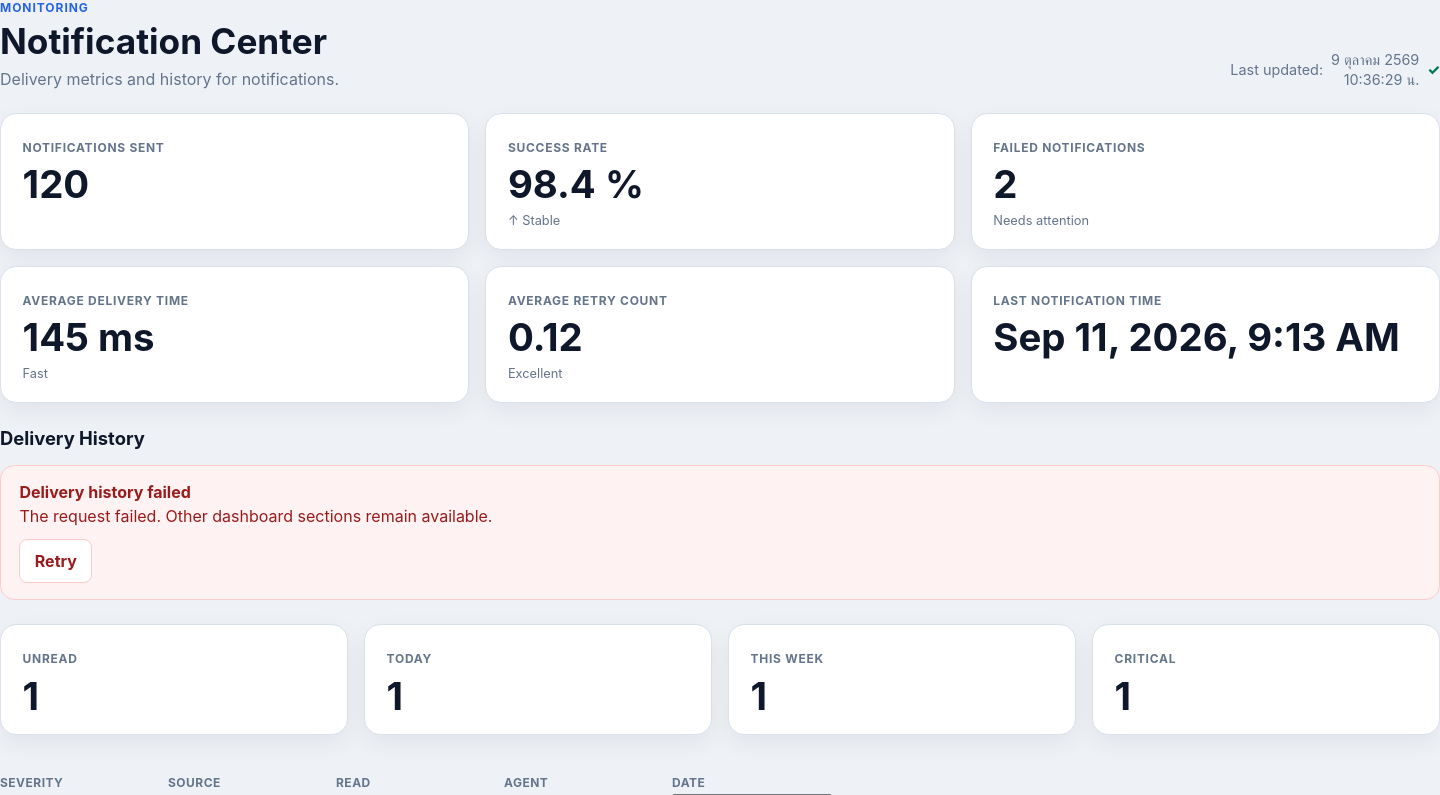
Test: Notification Center page › retries delivery history independently
Expected: the text "Delivery history failed" is shown, x1=19 y1=482 x2=191 y2=502
Expected: the element named "Notification delivery metrics" is shown, x1=0 y1=113 x2=1439 y2=403
Click the button with aria-label "Retry section".
click(56, 561)  # box x1=19 y1=539 x2=92 y2=583
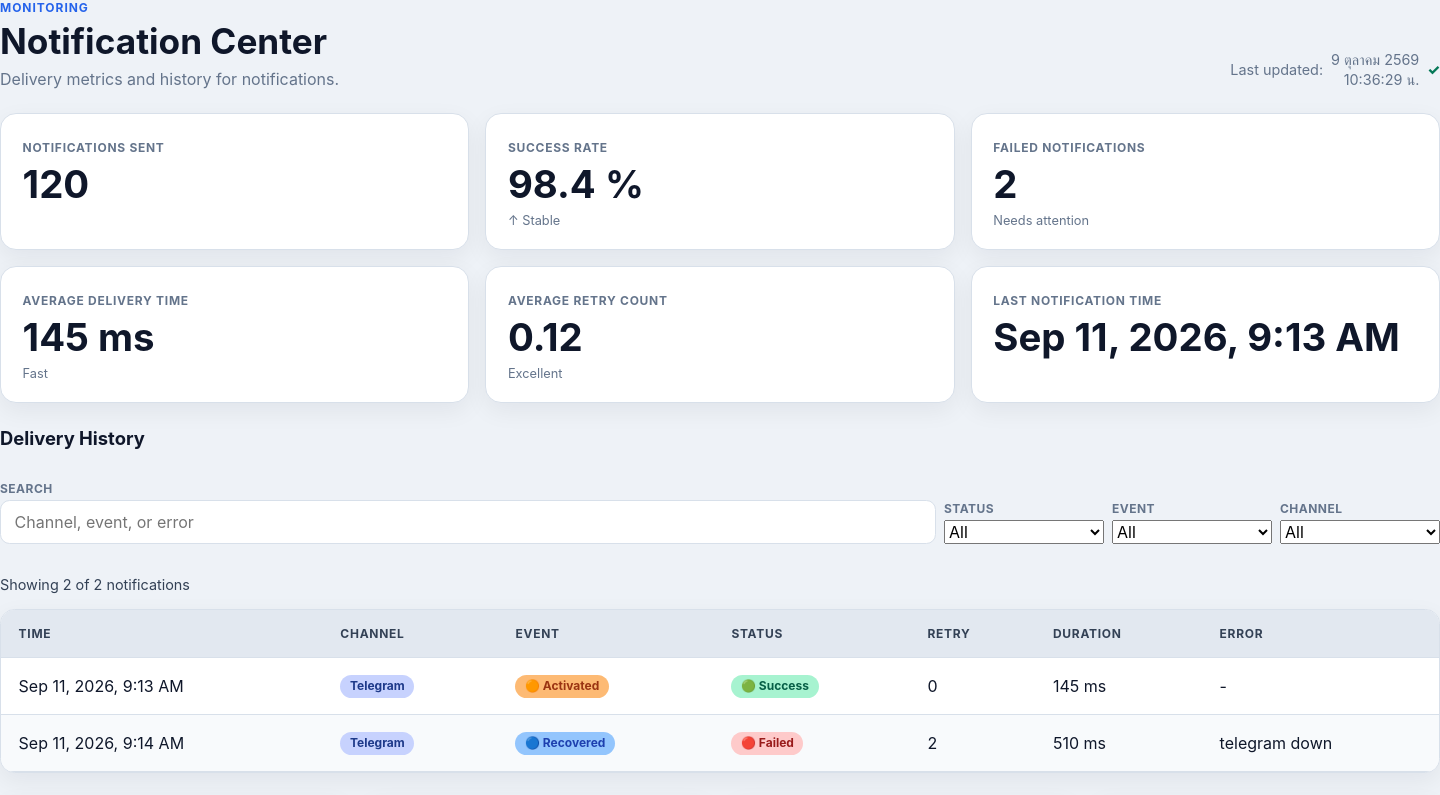
Result: the element named "Delivery history table" is shown at x1=0 y1=609 x2=1439 y2=773
